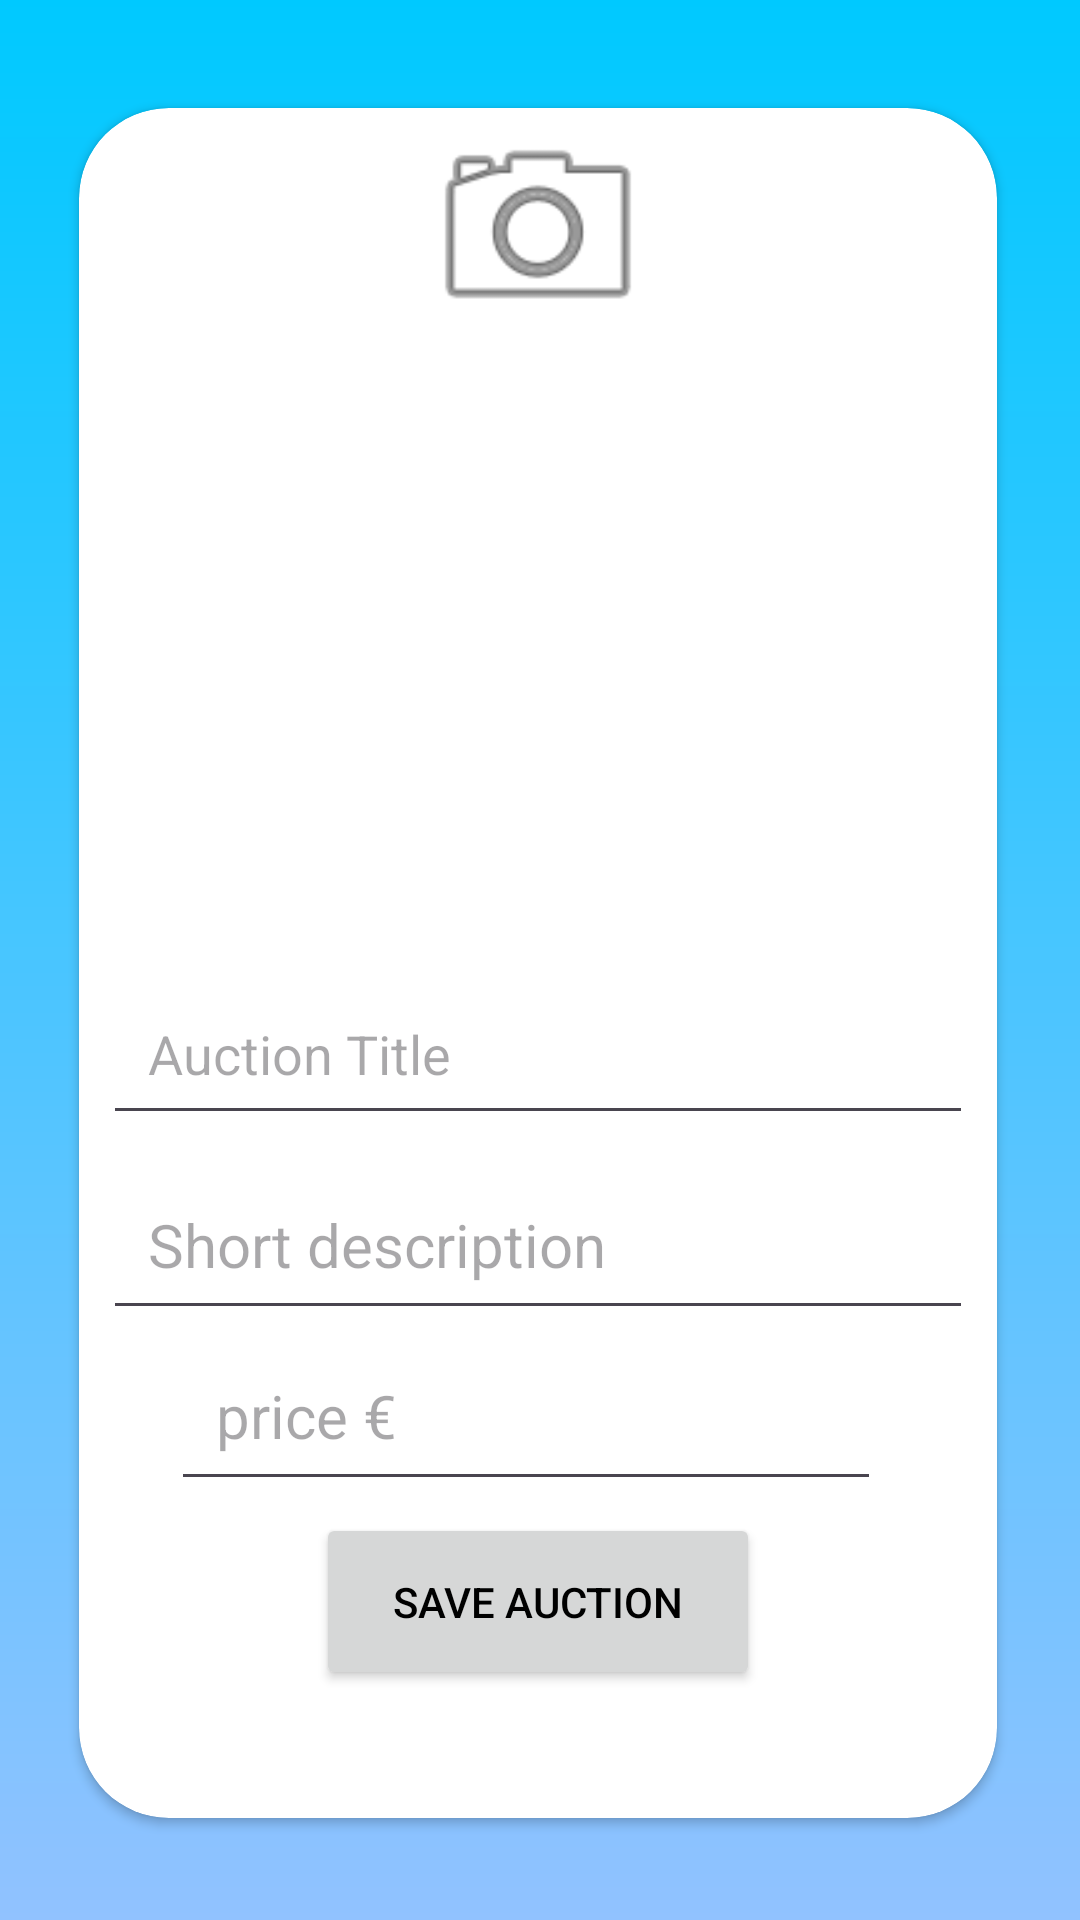

Icons on this 1080×1920 Android screen, each with the point to tap as (x=x, y=y):
camera: (x=538, y=224)
